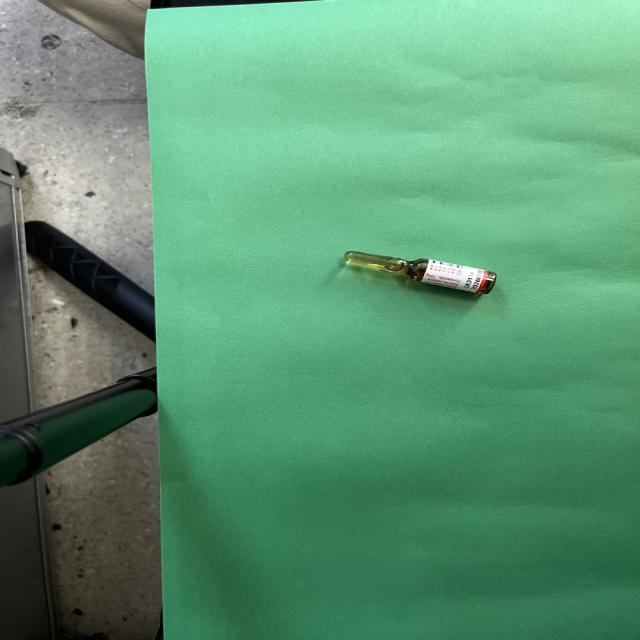Ampoules: (345, 251, 498, 294)
